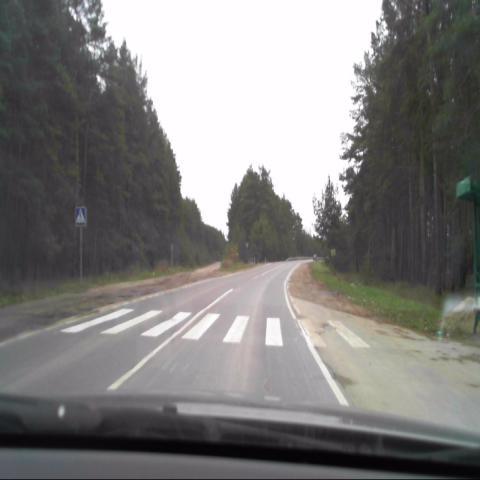5_19_1: (74, 206, 86, 228)
